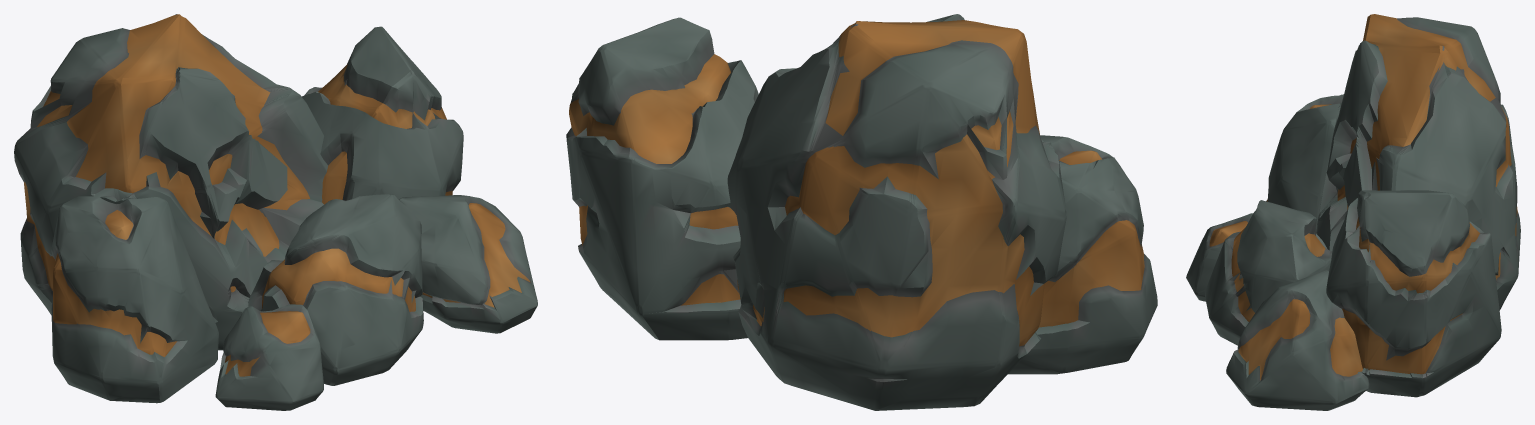
The model's file is corealm_ore_grithe.glb.
The picture shows the model from 3 angles, left to right: view 1: azimuth 30°, elevation 25°; view 2: azimuth 150°, elevation 25°; view 3: azimuth 270°, elevation 25°; orthographic projection. The views are drawn at different scales.
Visible parts, largest first — view 1: corealm_ore_grithe; view 2: corealm_ore_grithe; view 3: corealm_ore_grithe.
Boxes of the visible parts, x1,y1,x2,y2 form: corealm_ore_grithe: (14,14,537,410); corealm_ore_grithe: (566,14,1157,410); corealm_ore_grithe: (1186,14,1520,410).
Size of the model in its own units: 1.55 by 0.94 by 1.12.
